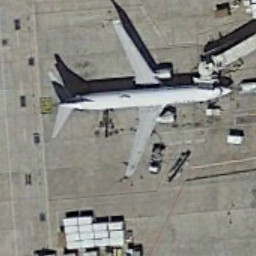Airplane: (33, 10, 237, 181)
